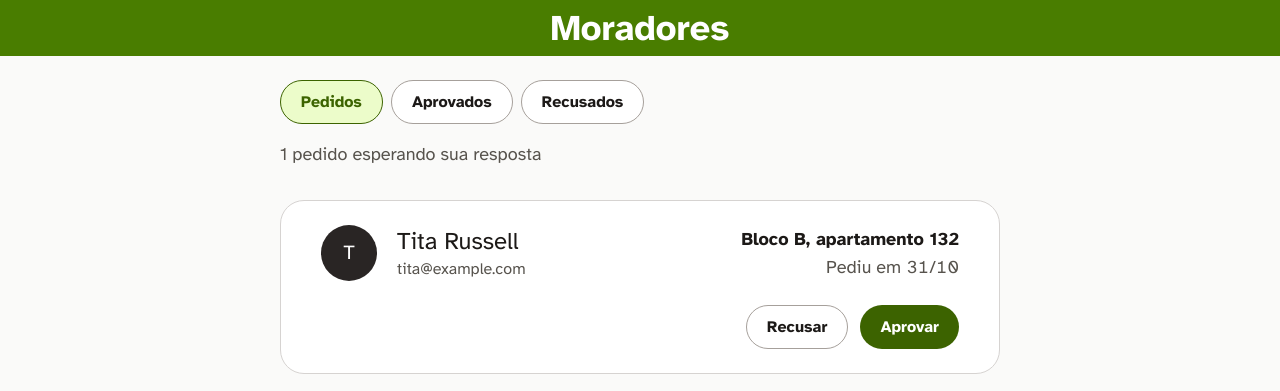
Test: Residents, changing a decision › says when the Recusados list is empty
The image size is (1280, 391).
Click the button "Recusados".
click(583, 102)  # box top-left (521, 80), bottom-right (644, 124)
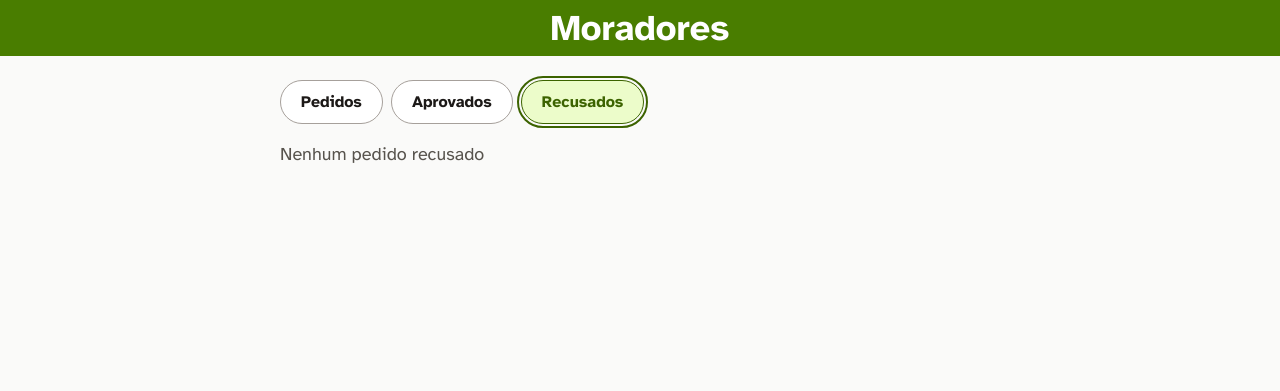
Result: the text "Nenhum pedido recusado" is shown at top-left (280, 143), bottom-right (484, 165)
